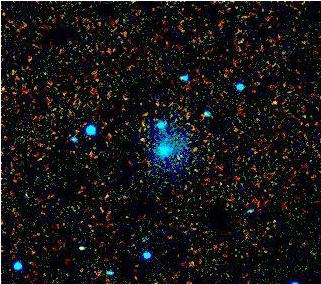star: (129, 125, 159, 155)
